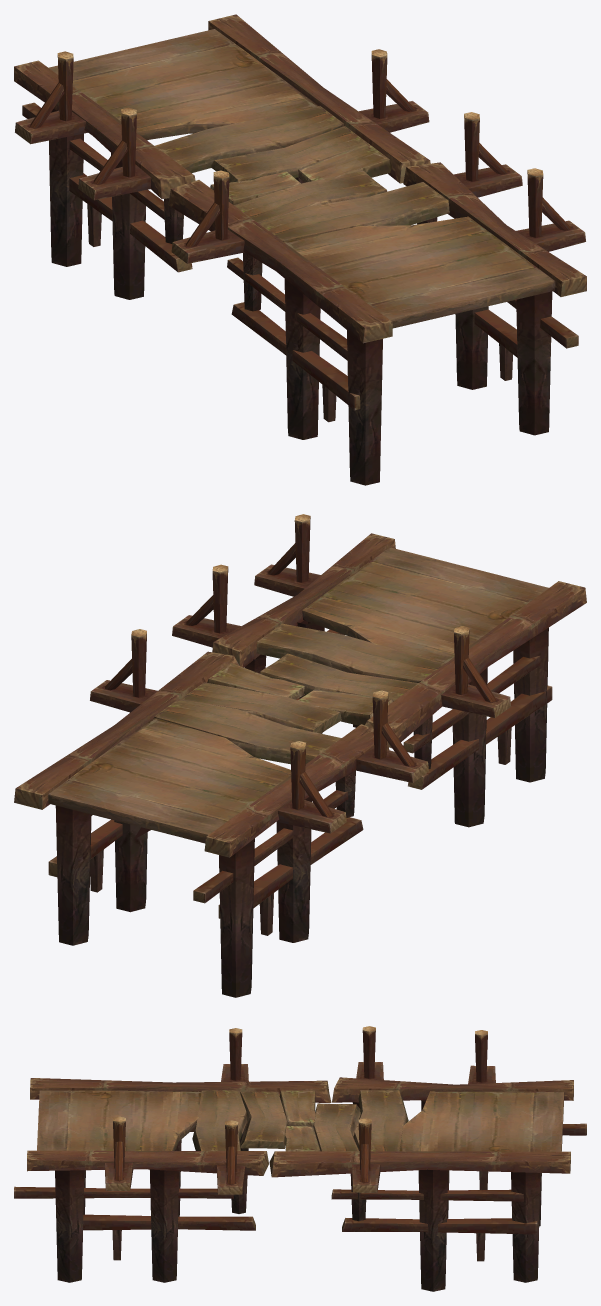
File: h5_qiao.FBX
3 views of the same model, one above another, from view 1: azimuth 30°, elevation 25°; view 2: azimuth 150°, elevation 25°; view 3: azimuth 270°, elevation 25° (orthographic). The views are drawn at different scales.
Visible parts, largest first — view 1: h5_qiao; view 2: h5_qiao; view 3: h5_qiao.
Part boxes in pixels (x1=…): h5_qiao: x1=14, y1=14, x2=586, y2=485; h5_qiao: x1=14, y1=514, x2=586, y2=997; h5_qiao: x1=14, y1=1026, x2=586, y2=1291.
Bounding box in the file's own units: 10.14 × 6.74 × 19.54.
